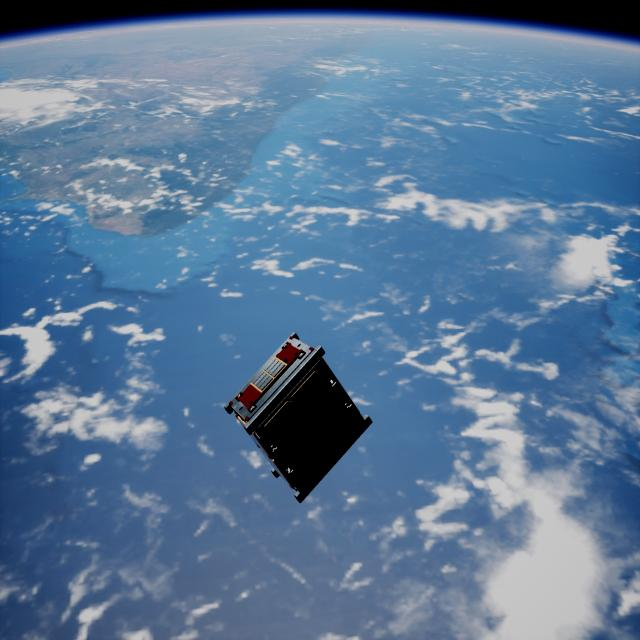medium_debris: (222, 328, 371, 506)
